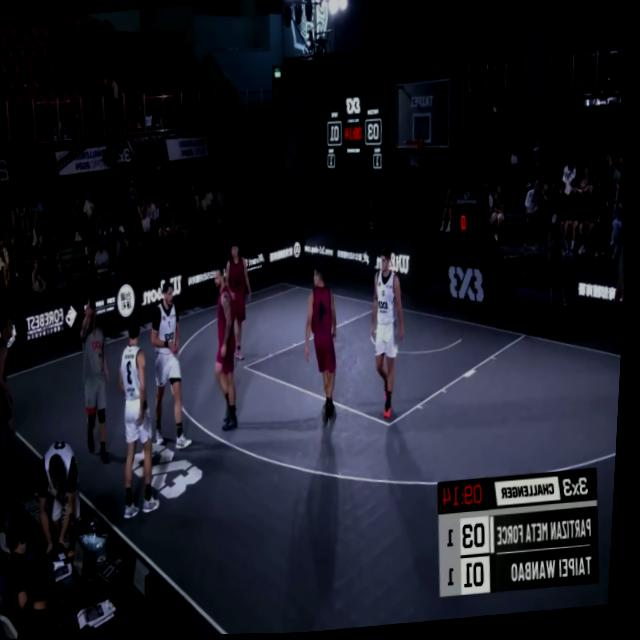hoop: (400, 134, 430, 177)
player: (113, 313, 174, 521), (365, 247, 418, 421), (150, 279, 203, 451), (302, 265, 350, 429), (206, 267, 249, 441), (221, 240, 261, 368)
